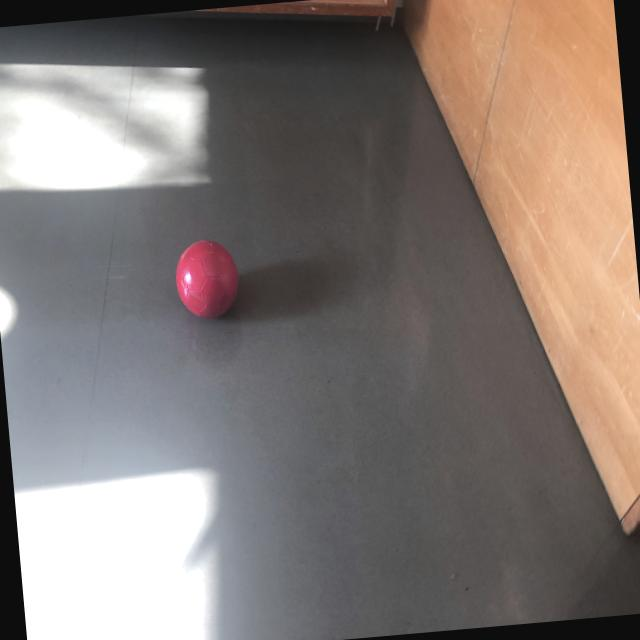red_ball: (172, 236, 243, 323)
